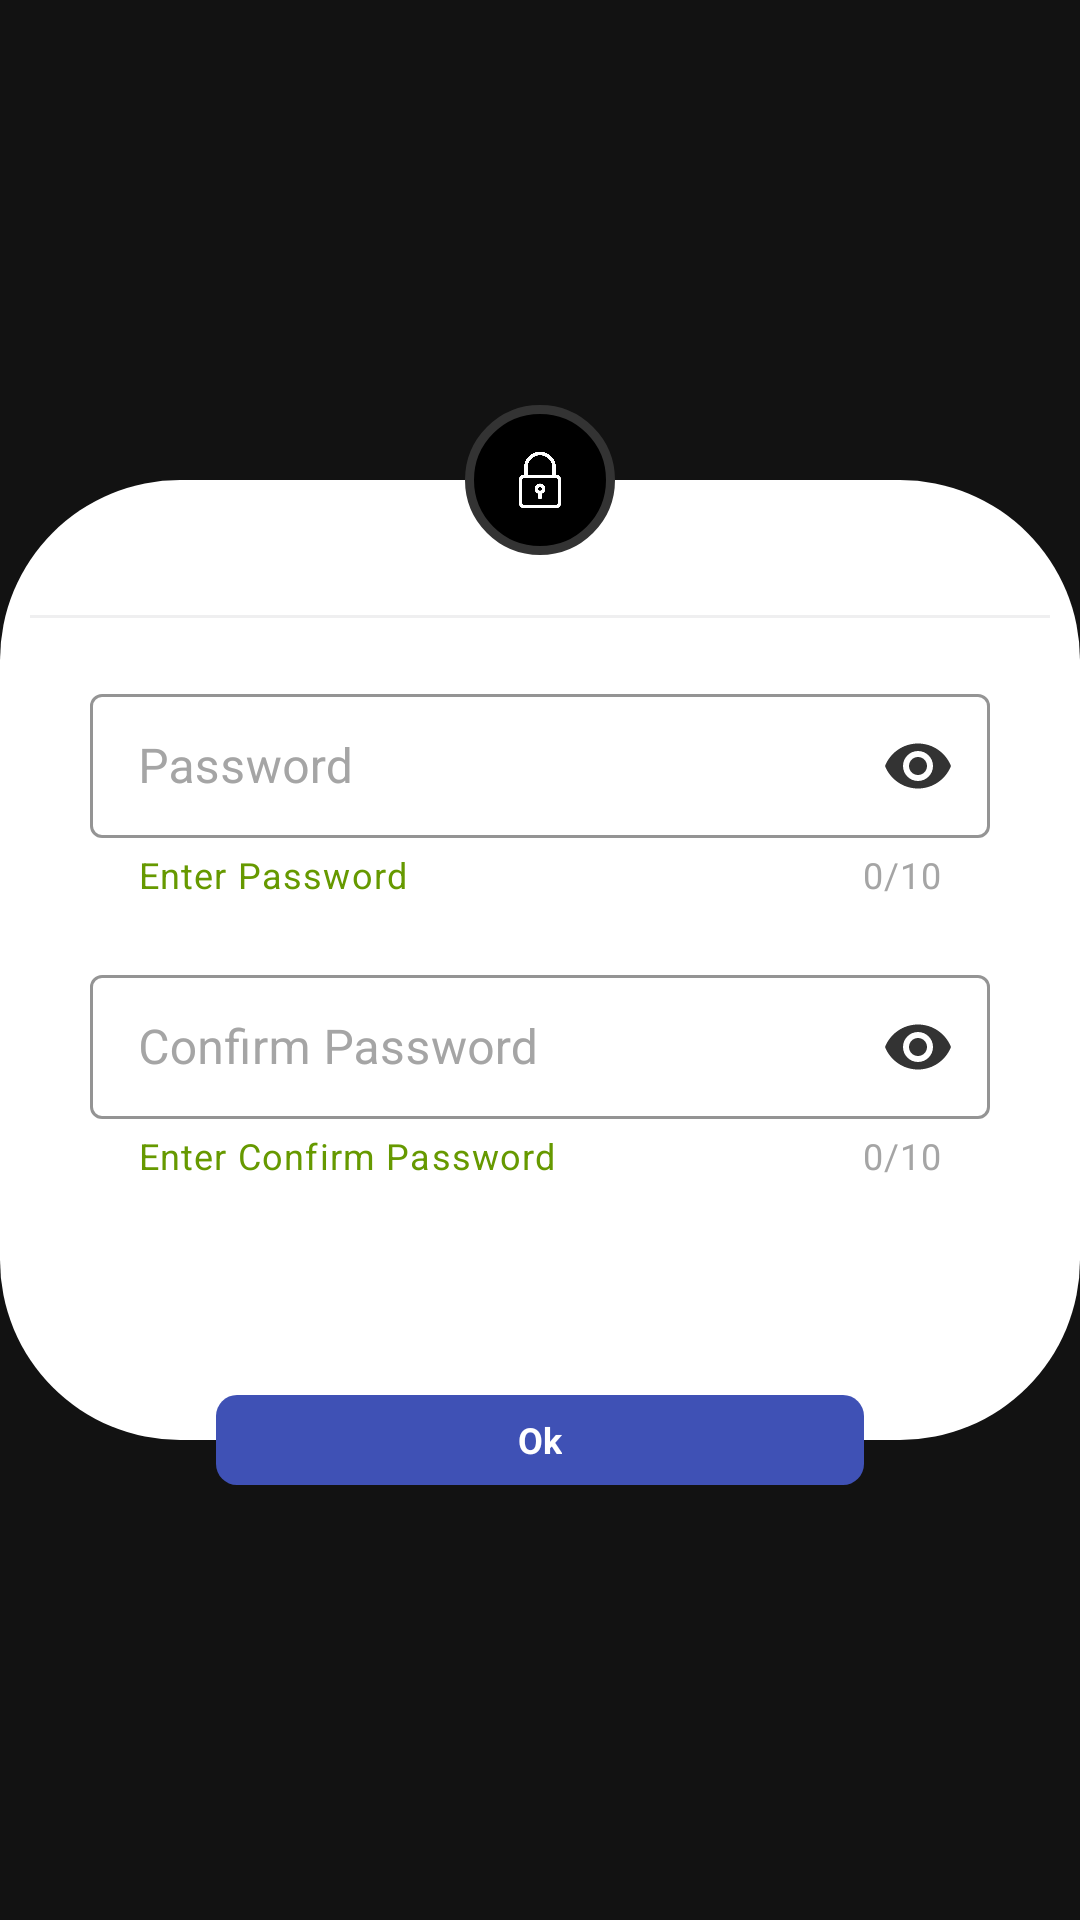

Where to tap for icons on this 1080px x 1920px app screen, as [x,y]:
locked: [540,480]
